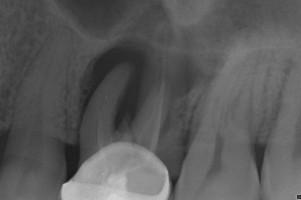Dental Caries: (79, 36, 160, 128), (184, 54, 200, 94)
